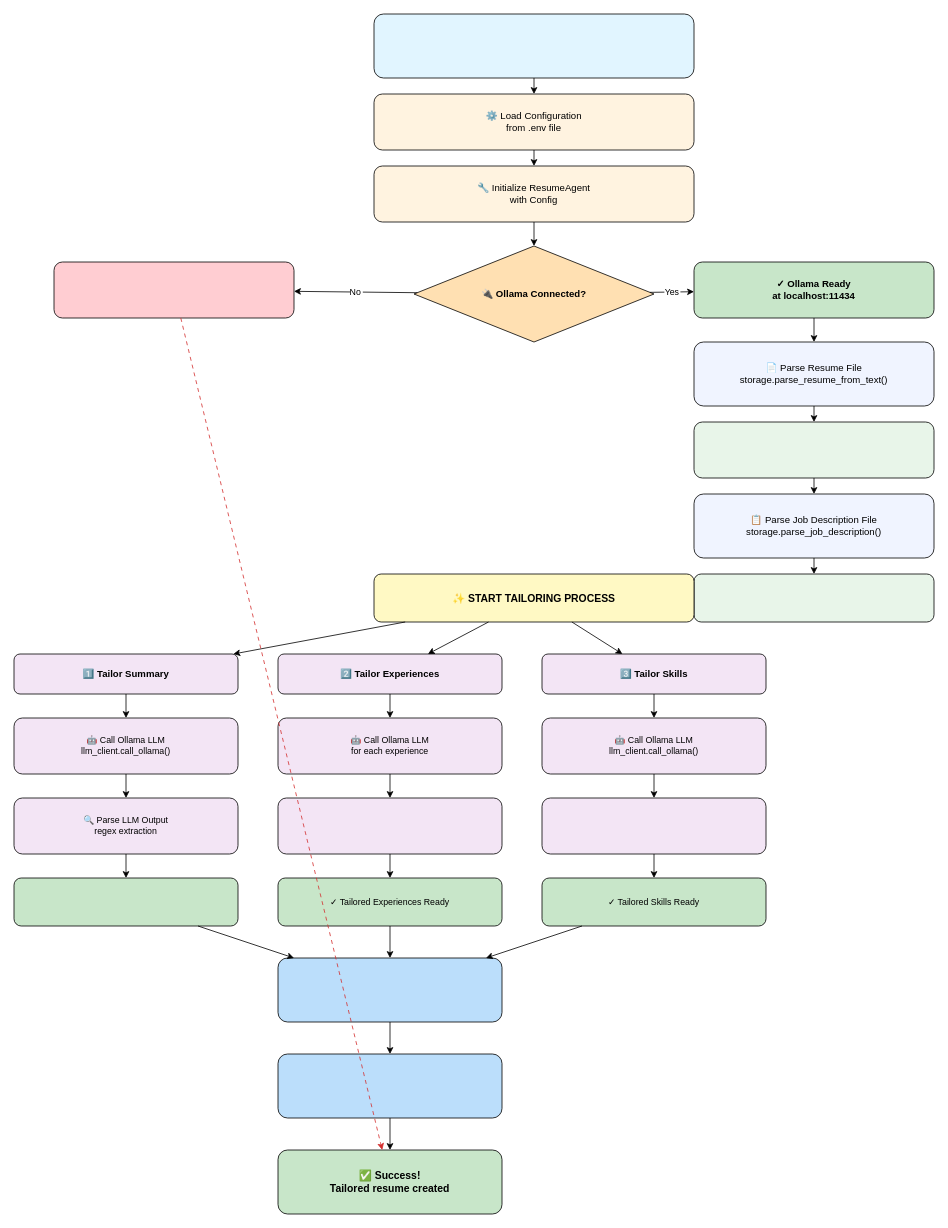
This 948x1228 diagram has some shape labels left out. Here are the shapes that lost their labels. From the top down, the centre of each, then its label:
At point 533,45: "👤 User Runs CLI Command tailor -r resume.txt -j job.txt -o output.txt".
At point 173,289: "❌ Connection Error Abort Process".
At point 813,449: "✓ Resume Object Created with experiences & skills".
At point 813,597: "✓ JobDescription Object Created".
At point 389,825: "🔍 Parse LLM Output extract tailored experiences".
At point 653,825: "🔍 Parse LLM Output extract tailored skills".
At point 125,901: "✓ Tailored Summary Ready".
At point 389,989: "🏗️ Build New Resume Object with tailored content".
At point 389,1085: "💾 Save to Output File storage.save_resume()".
